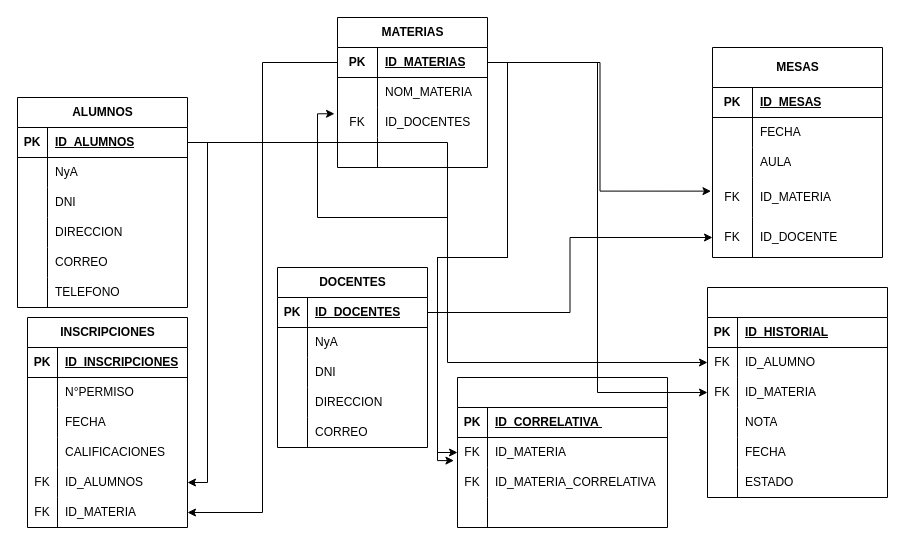
This 905x545 diagram has some shape labels left out. Here are the shapes that lost their labels. From the top down, the box of each, then its label:
(706, 286, 888, 498): HISTORIAL_ACADEMICO
(456, 376, 668, 528): CORRELATIVAS
